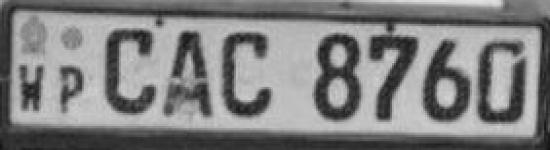0: (474, 36, 529, 124)
6: (422, 29, 476, 128)
7: (366, 27, 423, 127)
8: (302, 24, 366, 127)
A: (161, 24, 220, 123)
C: (220, 24, 282, 122), (100, 21, 158, 118)
P: (56, 62, 92, 118)
W: (14, 59, 51, 110)
